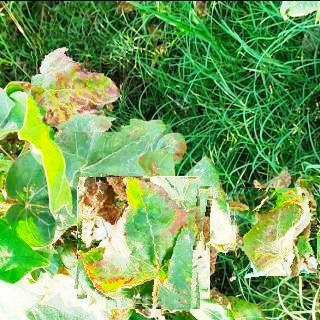blight: (78, 176, 209, 307), (31, 31, 131, 131), (229, 187, 317, 275)
